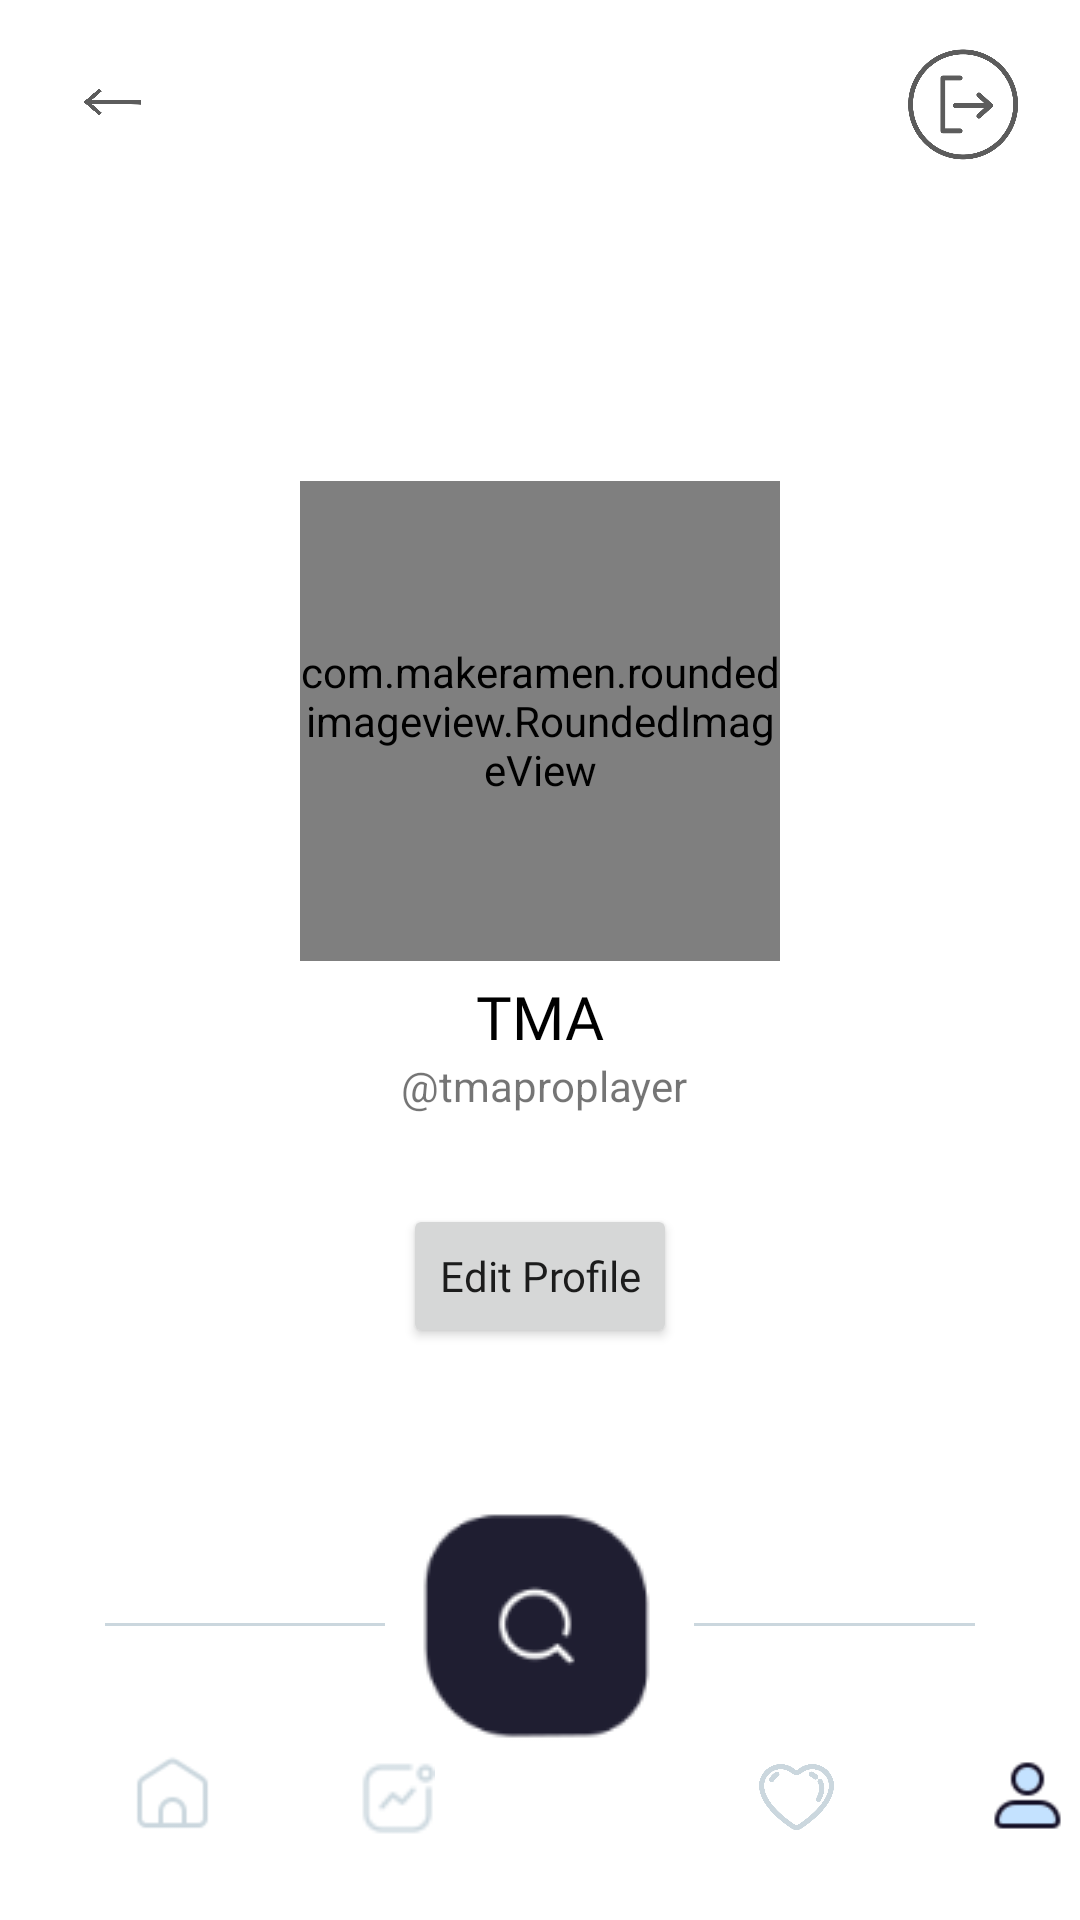

Icon bounding boxes for this 1080*1920 phone screenshot, format (x1, y1, x2, y2):
favorite: (759, 1764, 834, 1830)
find: (423, 1514, 649, 1738)
home: (137, 1759, 208, 1828)
left: (84, 89, 141, 115)
line chart: (364, 1765, 435, 1832)
sign out: (908, 49, 1018, 160)
userinfo: (994, 1762, 1061, 1829)
